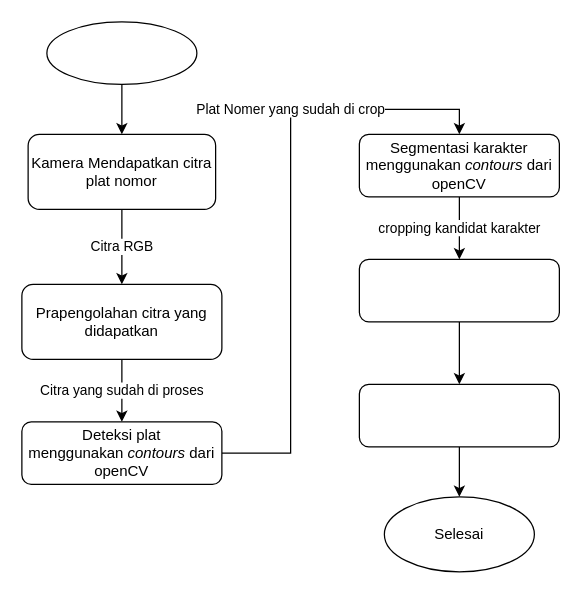
This 581x594 diagram has some shape labels left out. The shapes that lost their labels are listed below. From the top down, each one's centre as x and y in pixels, then its label:
At [121,52]: "Mulai".
At [458,290]: "Klasifikasi karakter".
At [458,415]: "Mendapatkan Nomor dari Platnomer".
